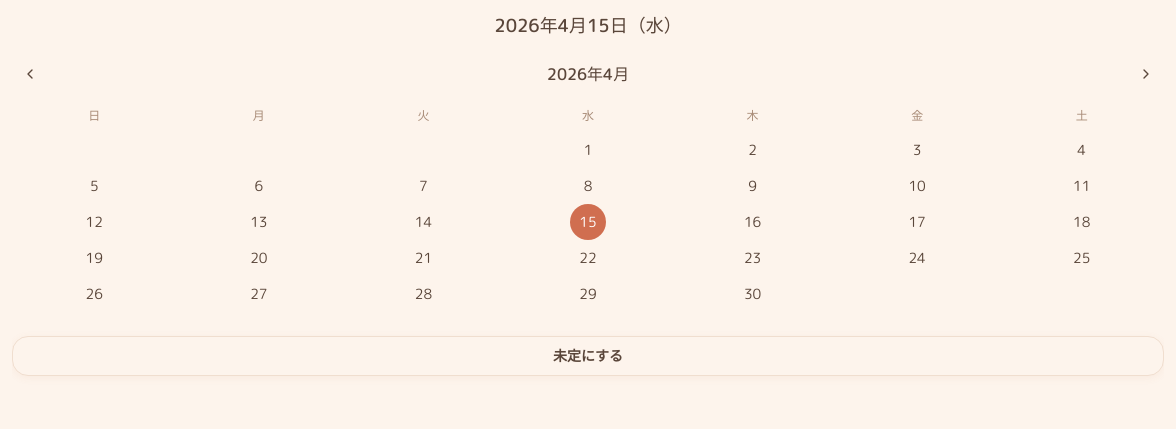
Scenario: CalendarPicker › 次月ボタンで月が切り替わる
Click the button named "次の月" at coordinates (1146, 74), box [1128,56,1164,92]
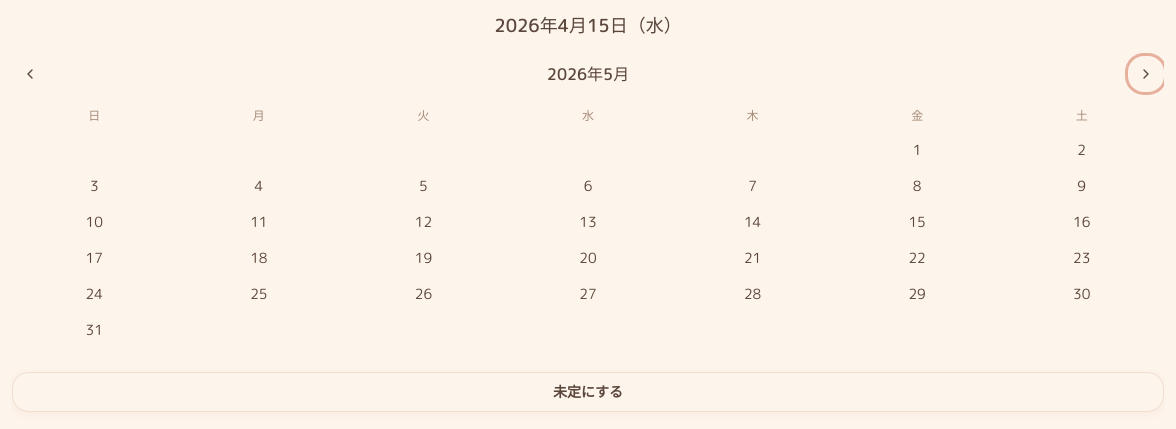
Expected: the table named "2026年5月" is shown, [12,132,1164,348]
